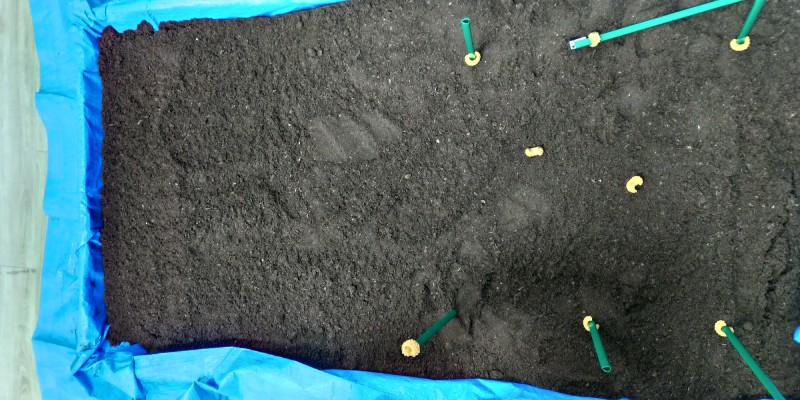eggs: (712, 313, 739, 343), (396, 337, 422, 361), (622, 171, 645, 194), (579, 313, 602, 336), (461, 49, 484, 70), (729, 35, 751, 55), (523, 143, 544, 159), (588, 29, 602, 48)
